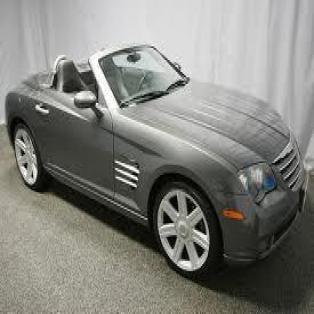Auto: (4, 42, 307, 282)
